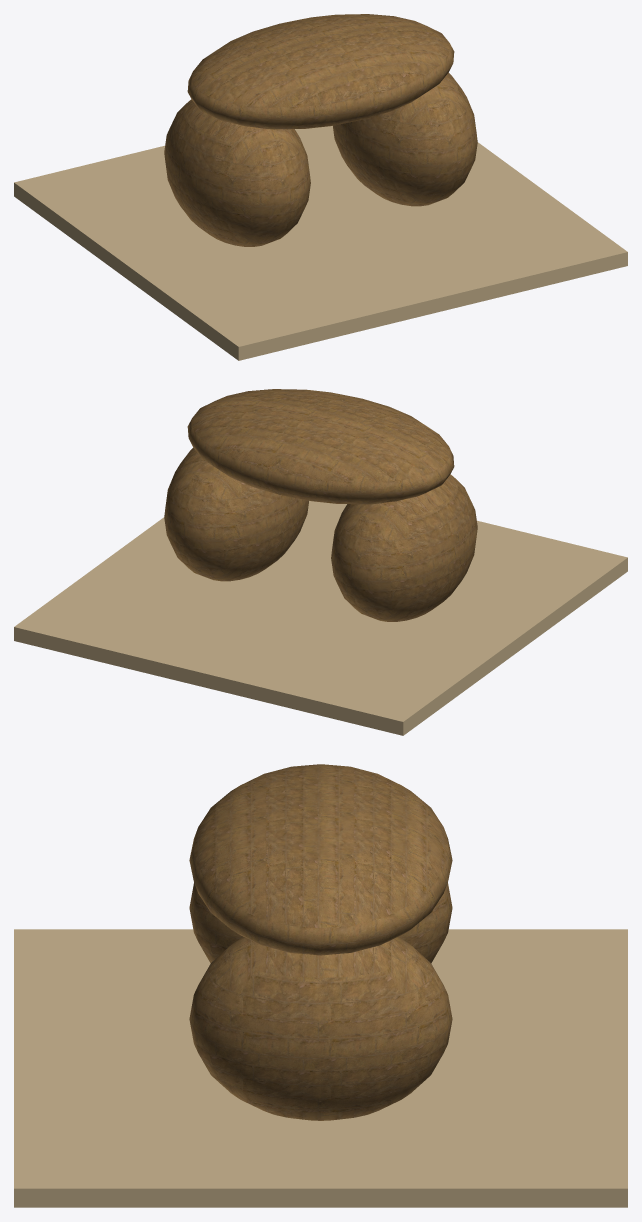
Rendered from caverna.glb.
3 renders of one model, top to bottom at view 1: azimuth 30°, elevation 25°; view 2: azimuth 150°, elevation 25°; view 3: azimuth 270°, elevation 25°, orthographic. The views are drawn at different scales.
Parts seen in each view (by area): view 1: Base ilustrativa, Rocha superior, Rocha lateral, Rocha lateral.001; view 2: Base ilustrativa, Rocha superior, Rocha lateral, Rocha lateral.001; view 3: Base ilustrativa, Rocha superior, Rocha lateral.001, Rocha lateral.
Part boxes in pixels (x1=…): Base ilustrativa: x1=14, y1=126, x2=627, y2=360; Rocha superior: x1=187, y1=14, x2=454, y2=129; Rocha lateral: x1=164, y1=99, x2=310, y2=246; Rocha lateral.001: x1=333, y1=72, x2=477, y2=206; Base ilustrativa: x1=14, y1=501, x2=627, y2=735; Rocha superior: x1=187, y1=389, x2=454, y2=504; Rocha lateral: x1=331, y1=474, x2=477, y2=621; Rocha lateral.001: x1=164, y1=447, x2=308, y2=581; Base ilustrativa: x1=14, y1=929, x2=627, y2=1207; Rocha superior: x1=189, y1=764, x2=452, y2=955; Rocha lateral.001: x1=189, y1=937, x2=452, y2=1120; Rocha lateral: x1=189, y1=883, x2=452, y2=963.
Bounding box in the file's own units: 7 × 3.34 × 7.
Materials: 2 (1 with a texture image).
